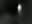person: (18, 4, 24, 18)
